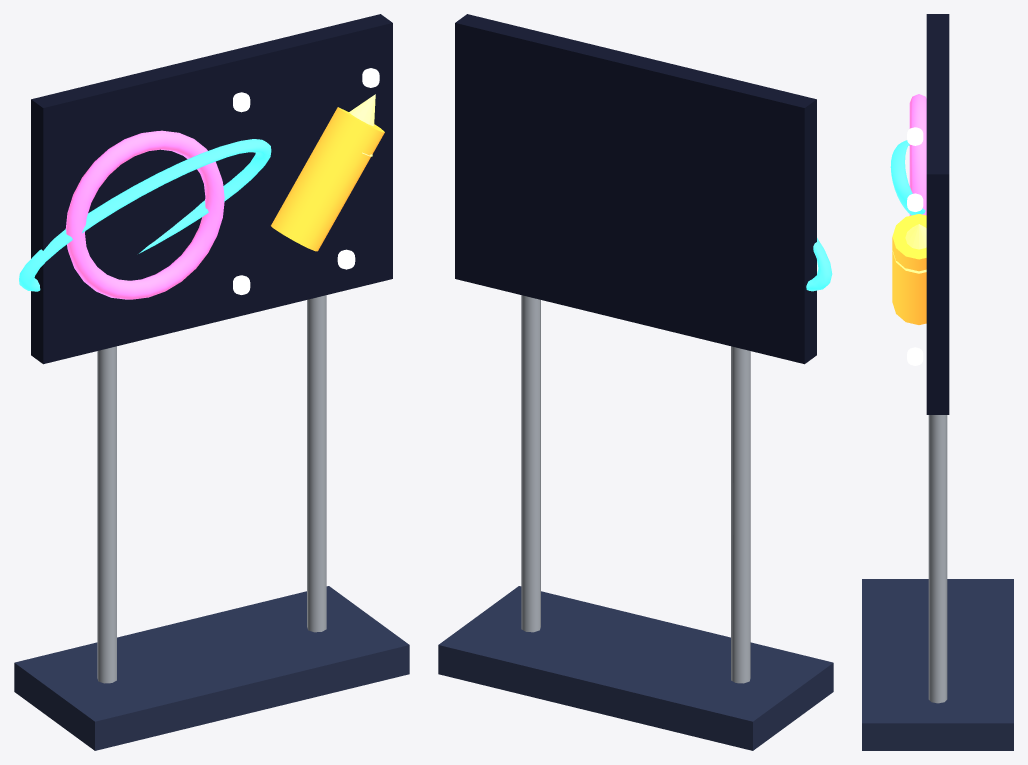
Rendered from space_neon_sign.glb.
3 renders of one model, left to right at view 1: azimuth 30°, elevation 25°; view 2: azimuth 150°, elevation 25°; view 3: azimuth 270°, elevation 25°, orthographic. The views are drawn at different scales.
Size of the model in its own units: 1.05 by 1.7 by 0.4.
